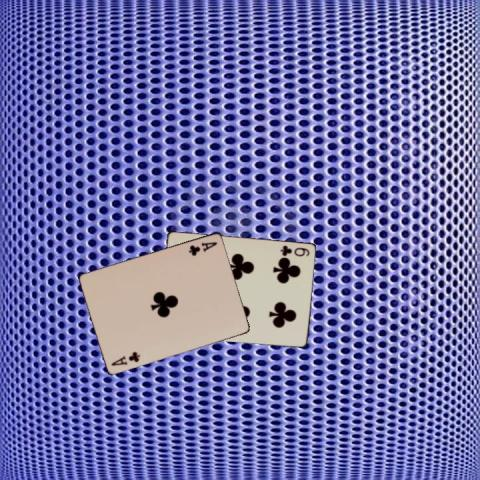6c: (277, 243, 311, 258)
Ac: (108, 349, 141, 368), (185, 240, 218, 258)
